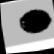correct: (11, 3, 54, 42)
